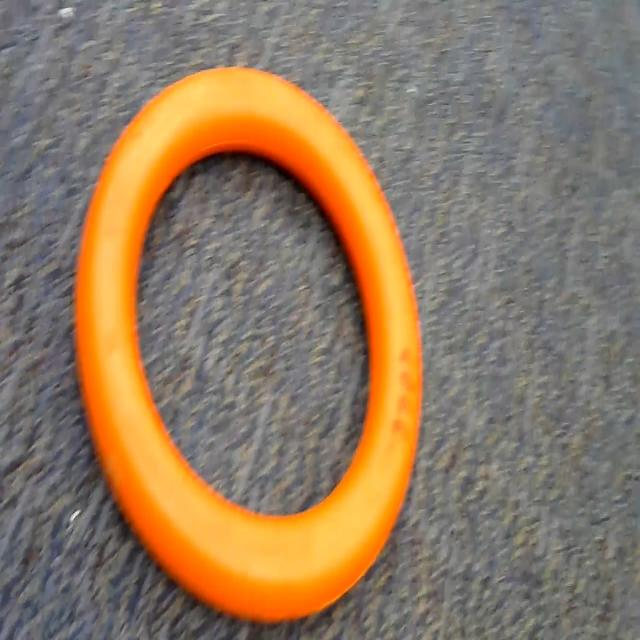note: (71, 62, 433, 638)
